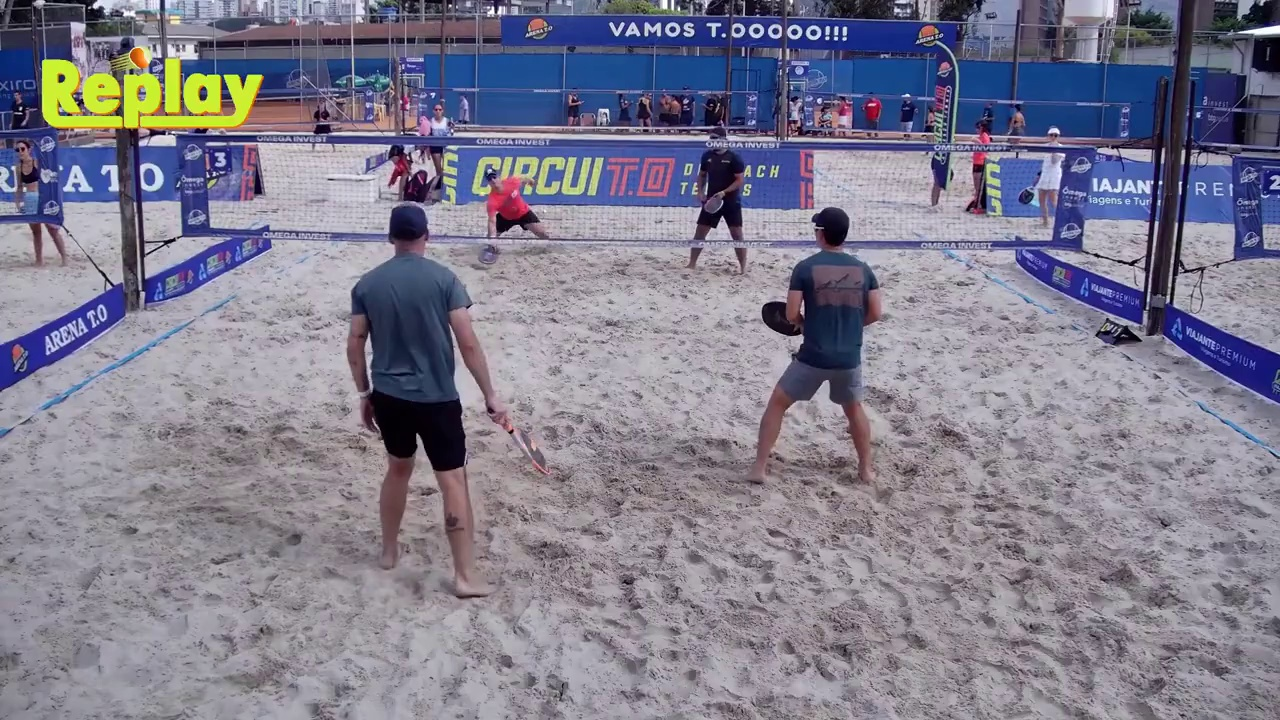court_line: (637, 0, 797, 326)
